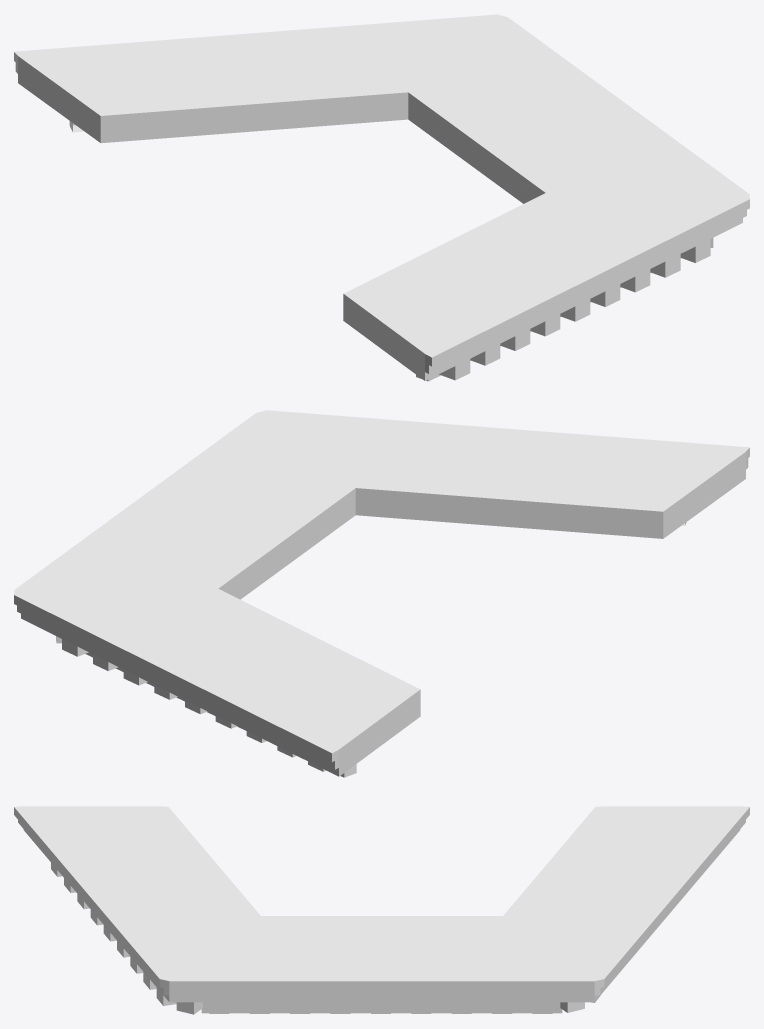
The model's file is bay_dentil_molding.glb.
3 views of the same model, one above another, from view 1: azimuth 30°, elevation 25°; view 2: azimuth 150°, elevation 25°; view 3: azimuth 270°, elevation 25° (orthographic). The views are drawn at different scales.
Visible parts, largest first — view 1: Cube.001; view 2: Cube.001; view 3: Cube.001.
Boxes of the visible parts, left/top/right/bottom form: Cube.001: left=14, top=14, right=749, bottom=381; Cube.001: left=14, top=410, right=749, bottom=777; Cube.001: left=14, top=806, right=749, bottom=1014.
Bounding box in the file's own units: 2.29 × 0.2953 × 4.06.
1 material, 1 textured.
